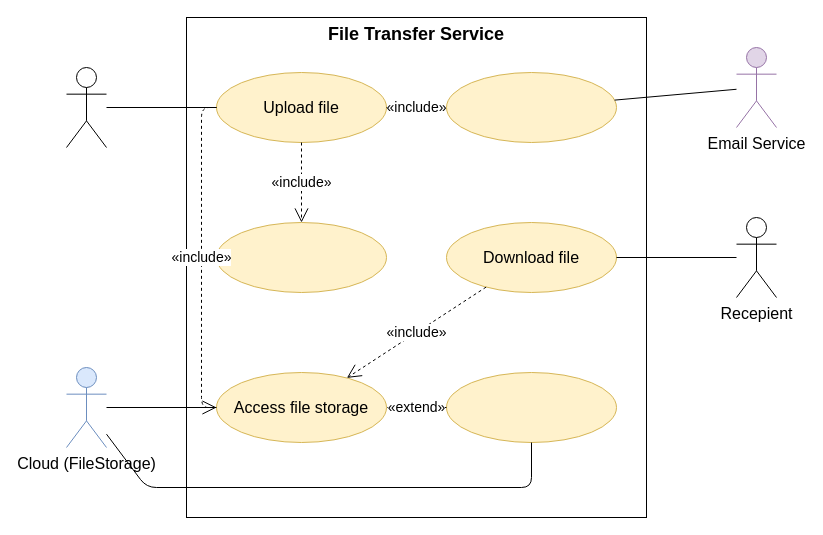
This 823x535 diagram has some shape labels left out. The centre of each missing label's shape, as x and y in pixels:
Notify recipient: (531,107)
Report space usage alarm: (531,407)
Sender: (86,107)
Specify recipient email: (301,257)
